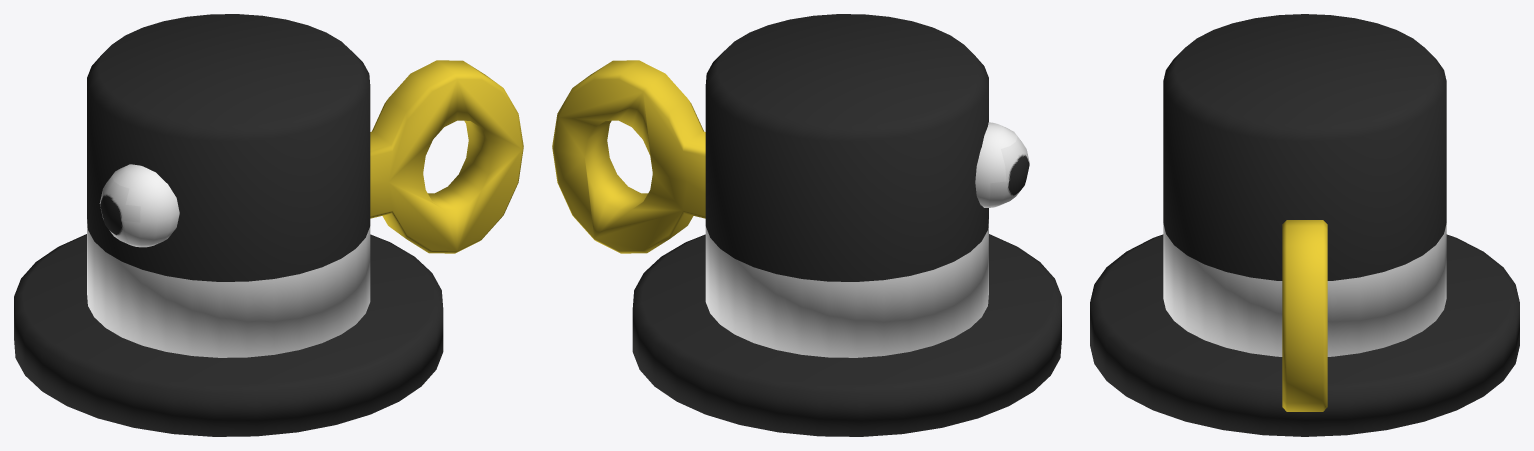
Rendered from wizard.glb.
3 renders of one model, left to right at view 1: azimuth 30°, elevation 25°; view 2: azimuth 150°, elevation 25°; view 3: azimuth 270°, elevation 25°, orthographic.
Parts seen in each view (by area): view 1: Cylinder, Cylinder.001, Sphere; view 2: Cylinder, Cylinder.001, Sphere; view 3: Cylinder, Cylinder.001.
Boxes of the visible parts, x1=… form: Cylinder: x1=14, y1=14, x2=443, y2=436; Cylinder.001: x1=370, y1=60, x2=523, y2=253; Sphere: x1=99, y1=164, x2=179, y2=247; Cylinder: x1=632, y1=14, x2=1061, y2=436; Cylinder.001: x1=552, y1=60, x2=705, y2=253; Sphere: x1=975, y1=122, x2=1029, y2=207; Cylinder: x1=1090, y1=14, x2=1519, y2=436; Cylinder.001: x1=1282, y1=220, x2=1327, y2=411.
Size of the model in its own units: 2.54 by 1.42 by 2.
Materials: 3 (3 with a texture image).
